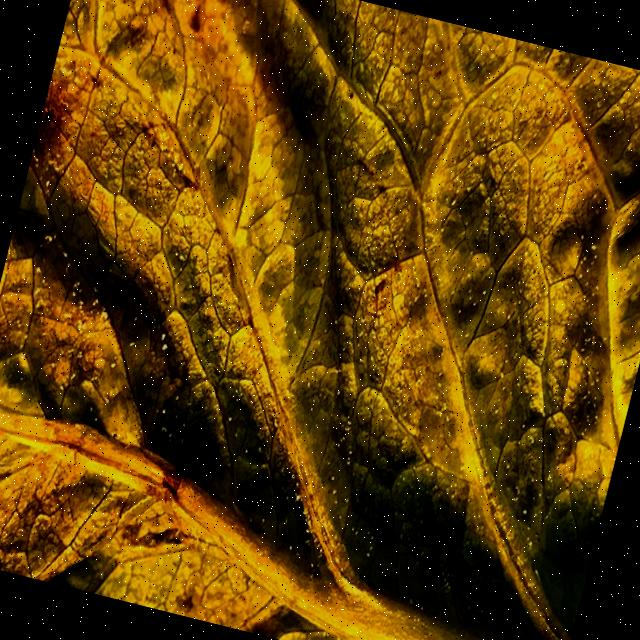Downy_mildew_on_lettuce: (254, 73, 580, 442)
